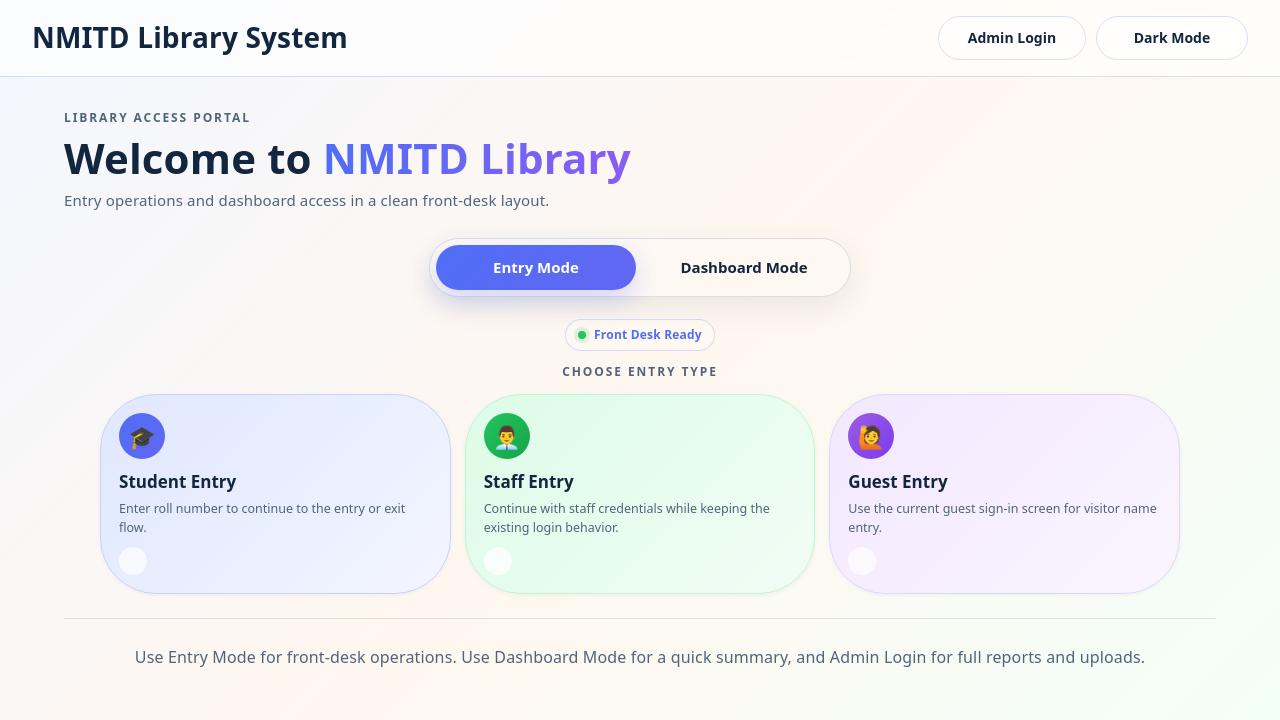
Test: renders entry mode by default and loads dashboard metrics on toggle
The width and height of the screenshot is (1280, 720).
Expected: the text "Library access portal" is shown, [64,109,251,127]
Expected: the button "Entry Mode" is shown, [436,245,636,290]
Click the button "Dashboard Mode": [744, 267] box [644,245,844,290]
(page scrolled)
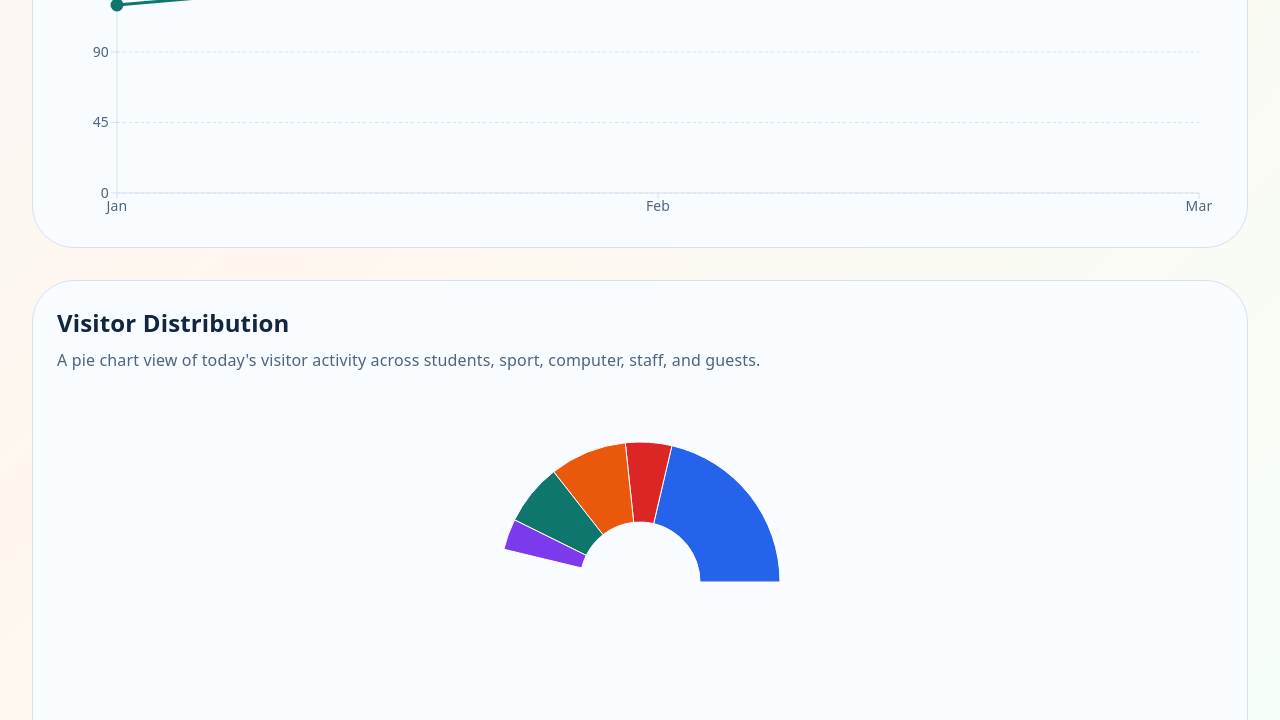
Expected: the text "Visitor Distribution" is shown, [57,306,290,339]
Expected: the text "activity across students, sport, computer, staff, and guests" is shown, [57,349,760,371]
